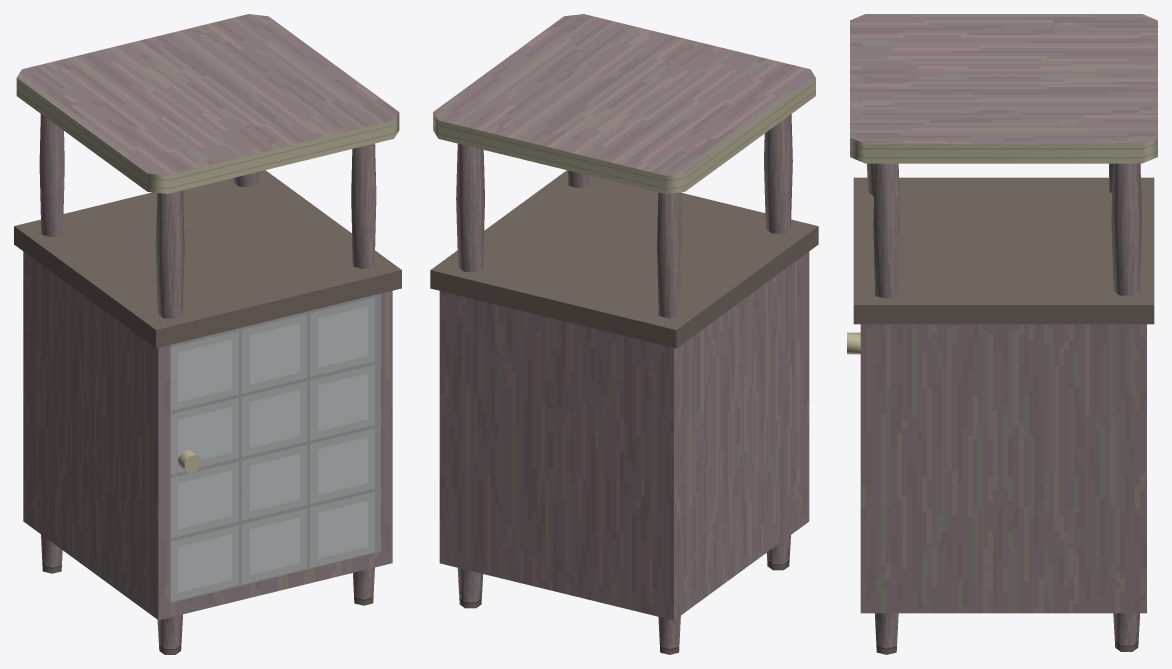
File: 04c9_Telephone_Stand.glb
The picture shows the model from 3 angles, left to right: view 1: azimuth 30°, elevation 25°; view 2: azimuth 150°, elevation 25°; view 3: azimuth 270°, elevation 25°; orthographic projection. The views are drawn at different scales.
Parts seen in each view (by area): view 1: part_0; view 2: part_0; view 3: part_0.
Boxes of the visible parts, x1,y1,x2,y2 form: part_0: (14,14,401,654); part_0: (430,14,818,654); part_0: (847,14,1157,654).
Bounding box in the file's own units: 0.43 × 0.8 × 0.4339.
Materials: 1 (1 with a texture image).
